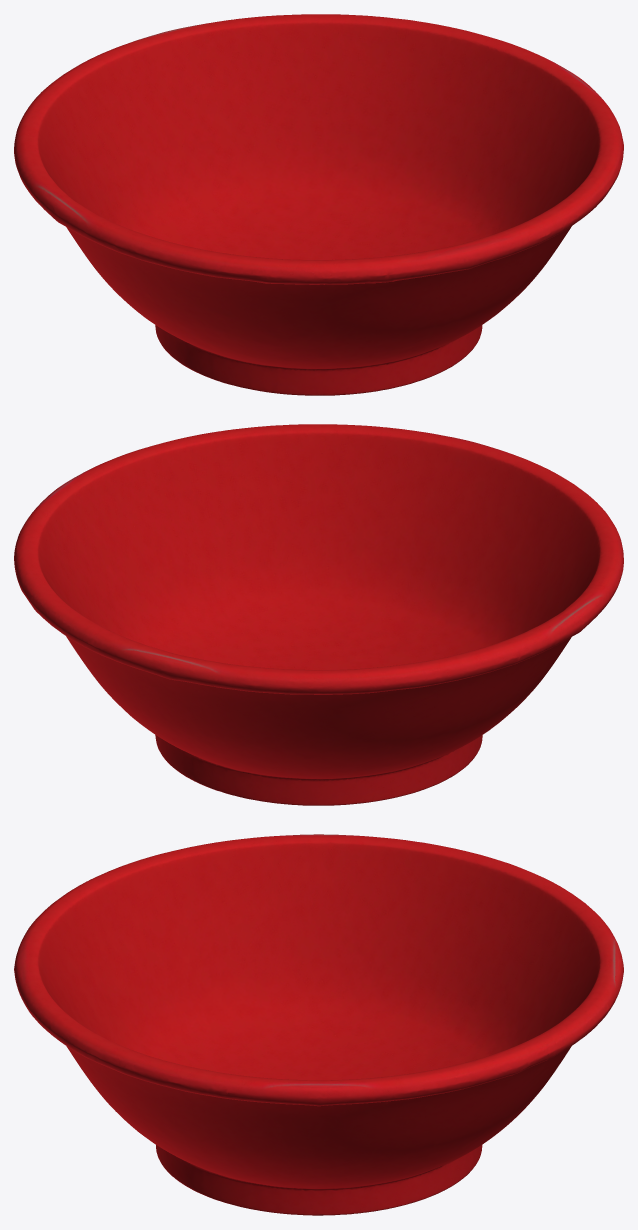
File: malatang_empty_bowl.fbx
3 views of the same model, one above another, from view 1: azimuth 30°, elevation 25°; view 2: azimuth 150°, elevation 25°; view 3: azimuth 270°, elevation 25° (orthographic).
Visible parts, largest first — view 1: Mesh_0; view 2: Mesh_0; view 3: Mesh_0.
Part boxes in pixels (<box>): Mesh_0: <box>14,14,623,395</box>; Mesh_0: <box>14,424,623,805</box>; Mesh_0: <box>14,834,623,1215</box>.
Size of the model in its own units: 190 by 64.56 by 190.
1 material, 1 textured.
